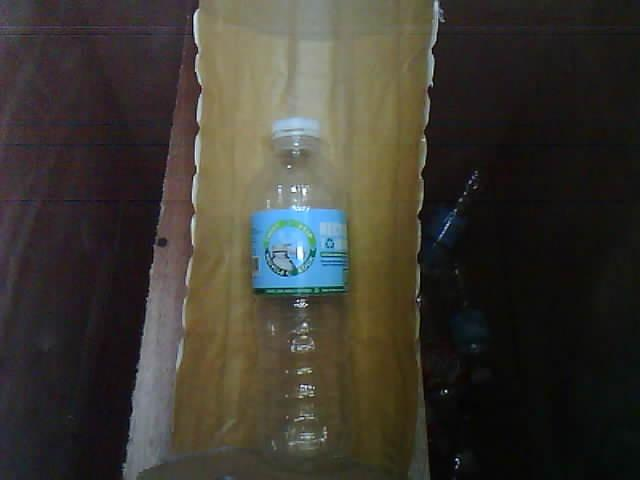small_bottle: (220, 96, 372, 480)
